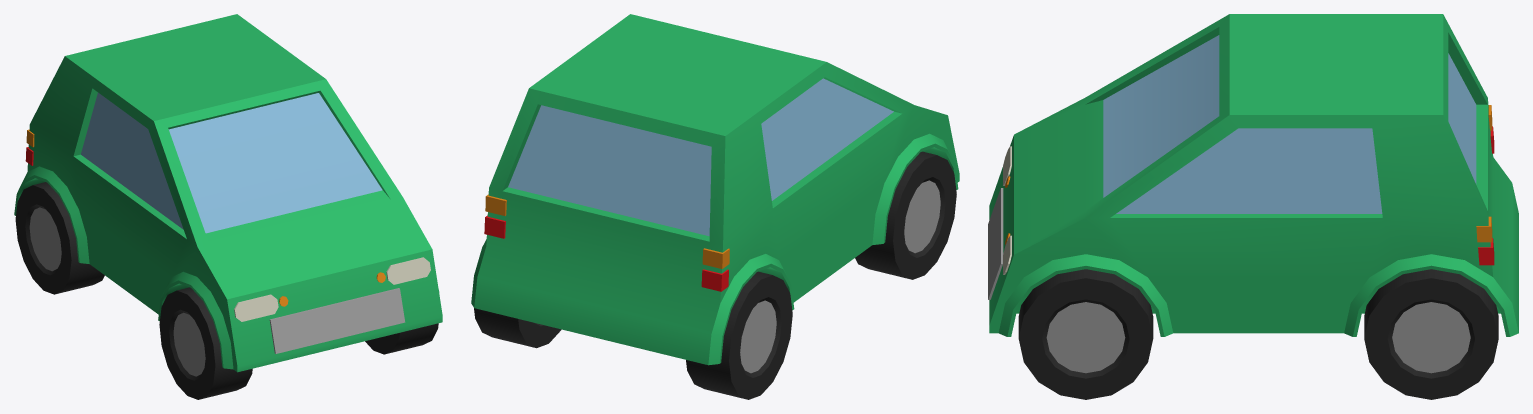
Rendered from car-micro-green.gltf.
3 views of the same model, side by side, from view 1: azimuth 30°, elevation 25°; view 2: azimuth 150°, elevation 25°; view 3: azimuth 270°, elevation 25° (orthographic). The views are drawn at different scales.
Parts seen in each view (by area): view 1: car-micro-green_Cube.595; view 2: car-micro-green_Cube.595; view 3: car-micro-green_Cube.595.
Boxes of the visible parts, x1,y1,x2,y2 form: car-micro-green_Cube.595: (14, 14, 442, 399); car-micro-green_Cube.595: (471, 14, 959, 399); car-micro-green_Cube.595: (988, 14, 1518, 399).
Size of the model in its own units: 1.67 by 1.59 by 2.84.
